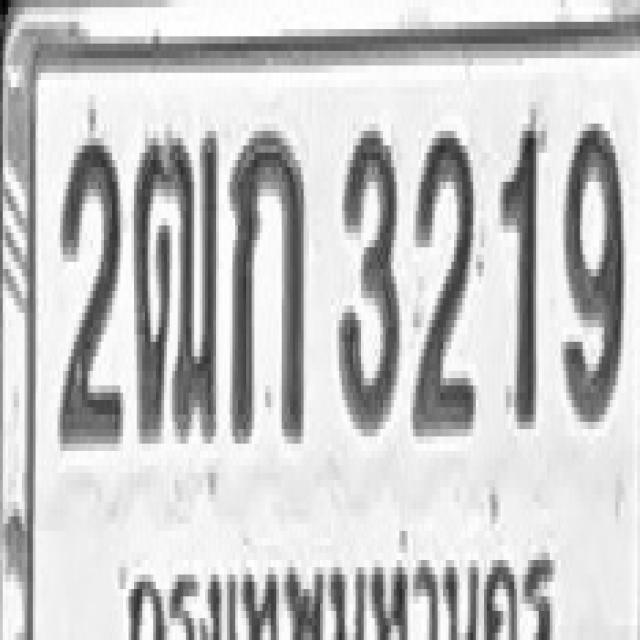1: (498, 113, 542, 425)
10GorGai: (228, 120, 305, 440)
2: (58, 127, 120, 440), (412, 120, 474, 433)
27ThorPhuThao: (131, 124, 219, 444)
3: (336, 124, 399, 429)
9: (560, 113, 624, 418)
